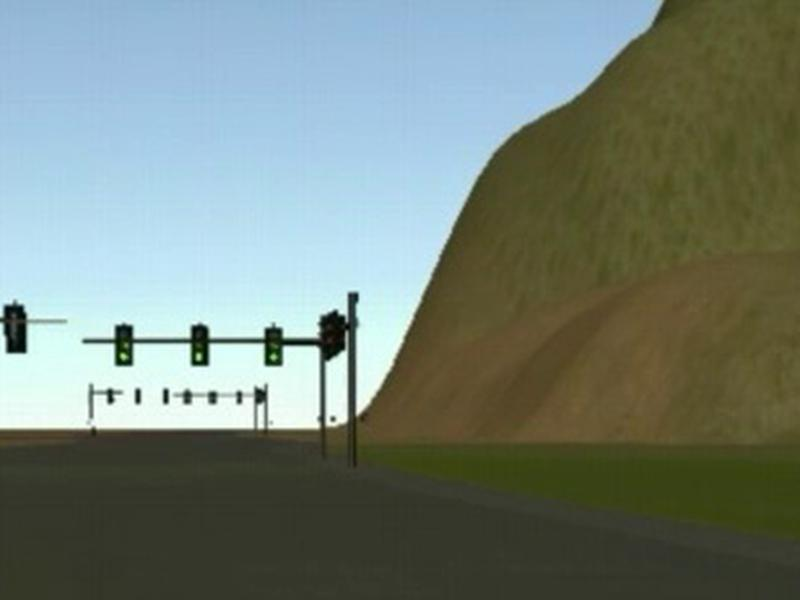Green: (114, 323, 132, 365), (190, 325, 208, 365), (265, 326, 283, 365)
